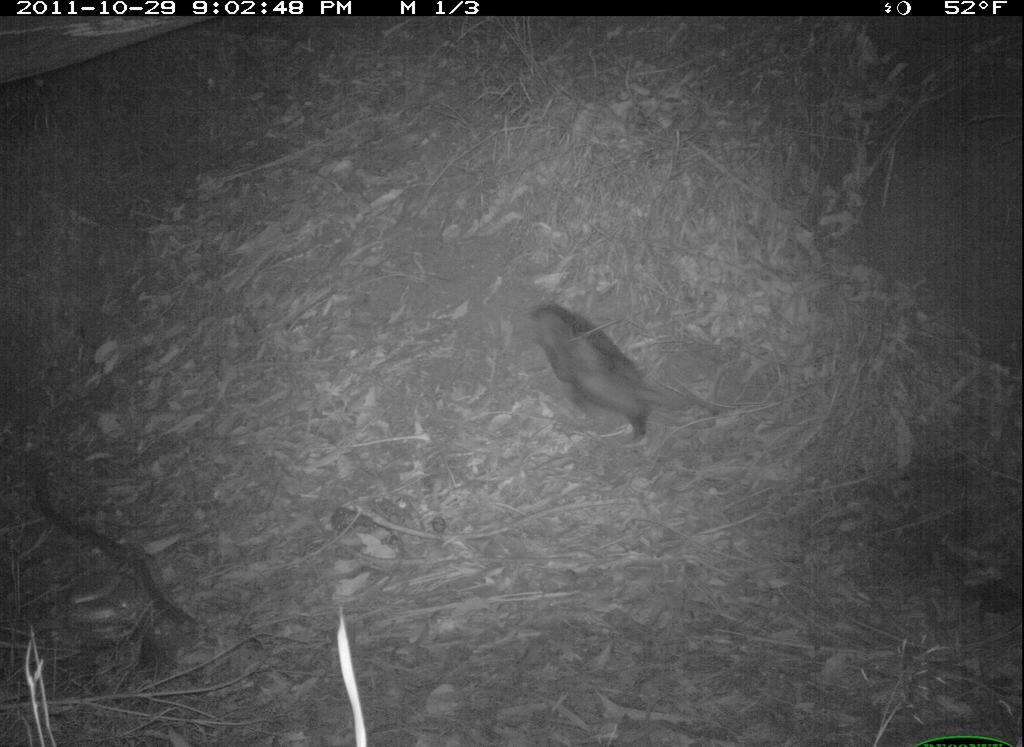opossum: (500, 295, 711, 447)
